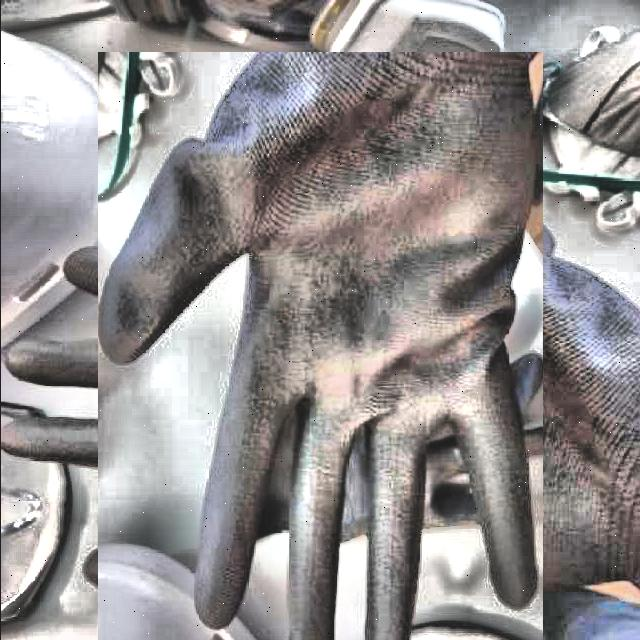gloved: (49, 100, 592, 640)
